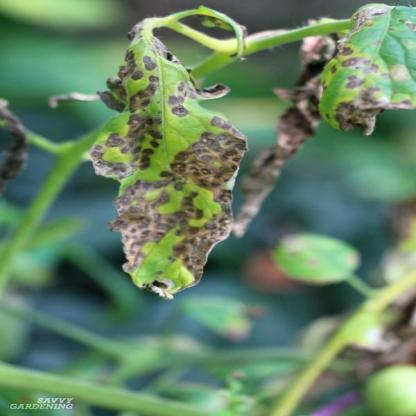tomato leaf bacterial spot: (90, 30, 259, 305), (306, 6, 415, 138)
